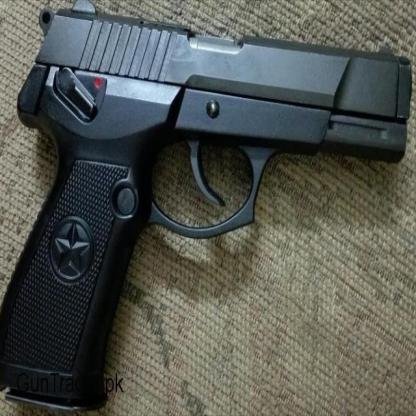Pistol: (5, 0, 412, 384)
